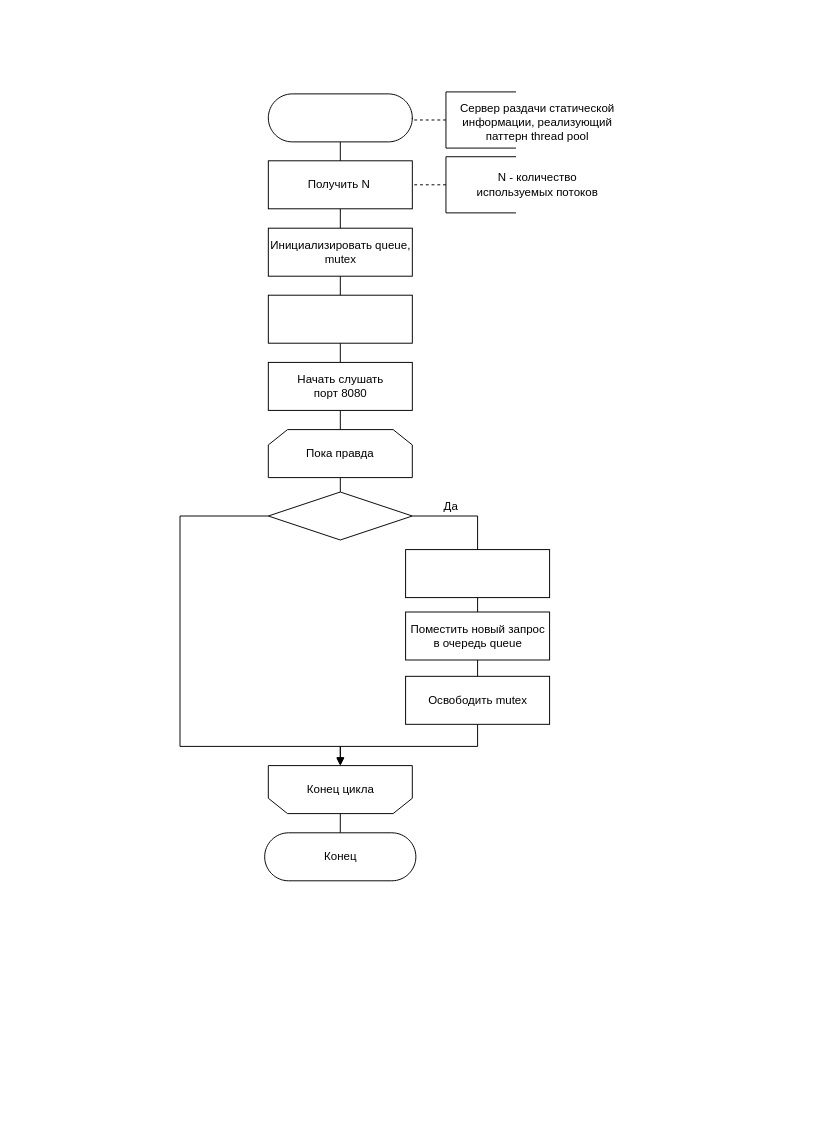
Image size: 820x1146. Some labels were removed from this diagram. The centre of each missing label's shape, as x and y in pixels:
Захватить mutex: point 477,573
Инициализировать массив потоков pool[N] на выполнение handle(): point 339,318
Начало: point 339,117
Новый запрос получен?: point 339,515
